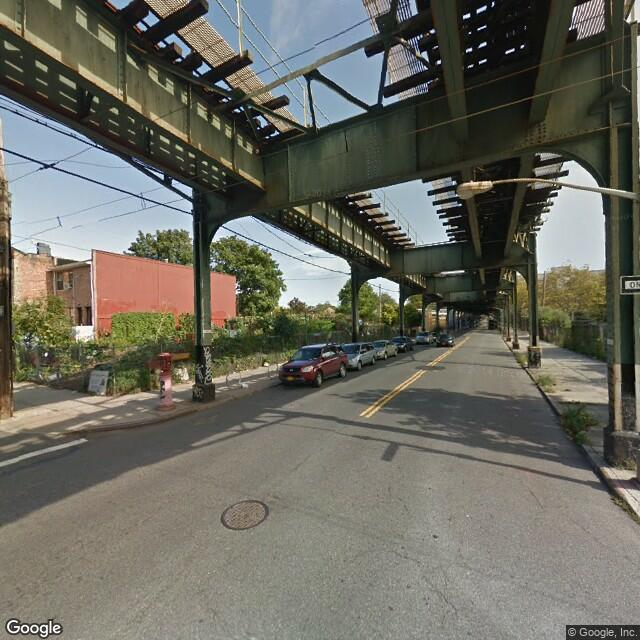litter: (242, 384, 248, 388)
